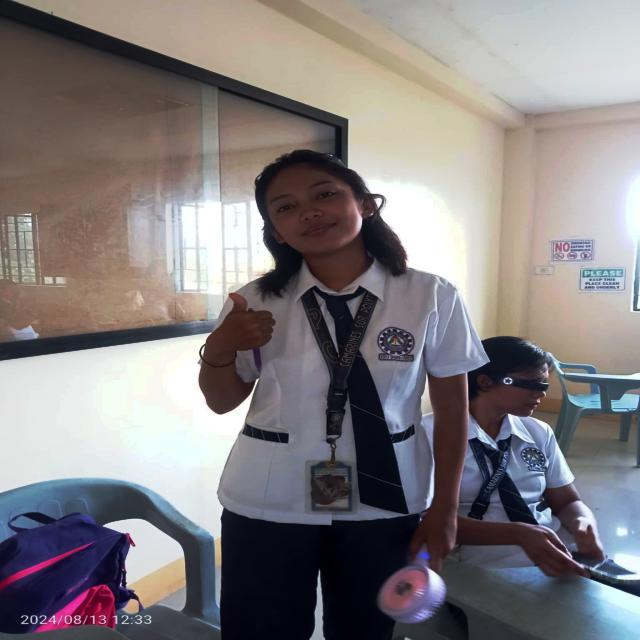thumbs_up: (215, 290, 277, 354), (405, 505, 459, 578)
